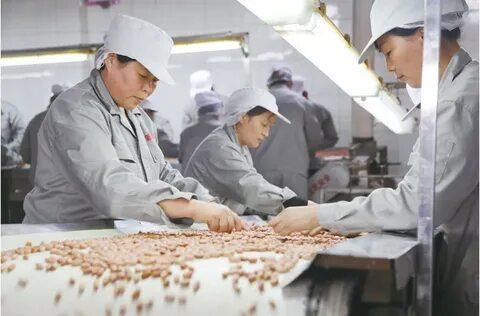hairnet: (378, 0, 470, 49), (100, 21, 153, 76)
